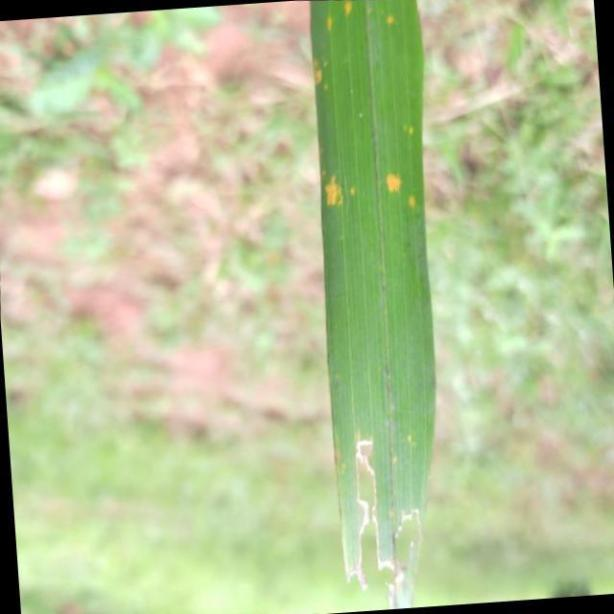Kalium: (312, 3, 436, 601)
